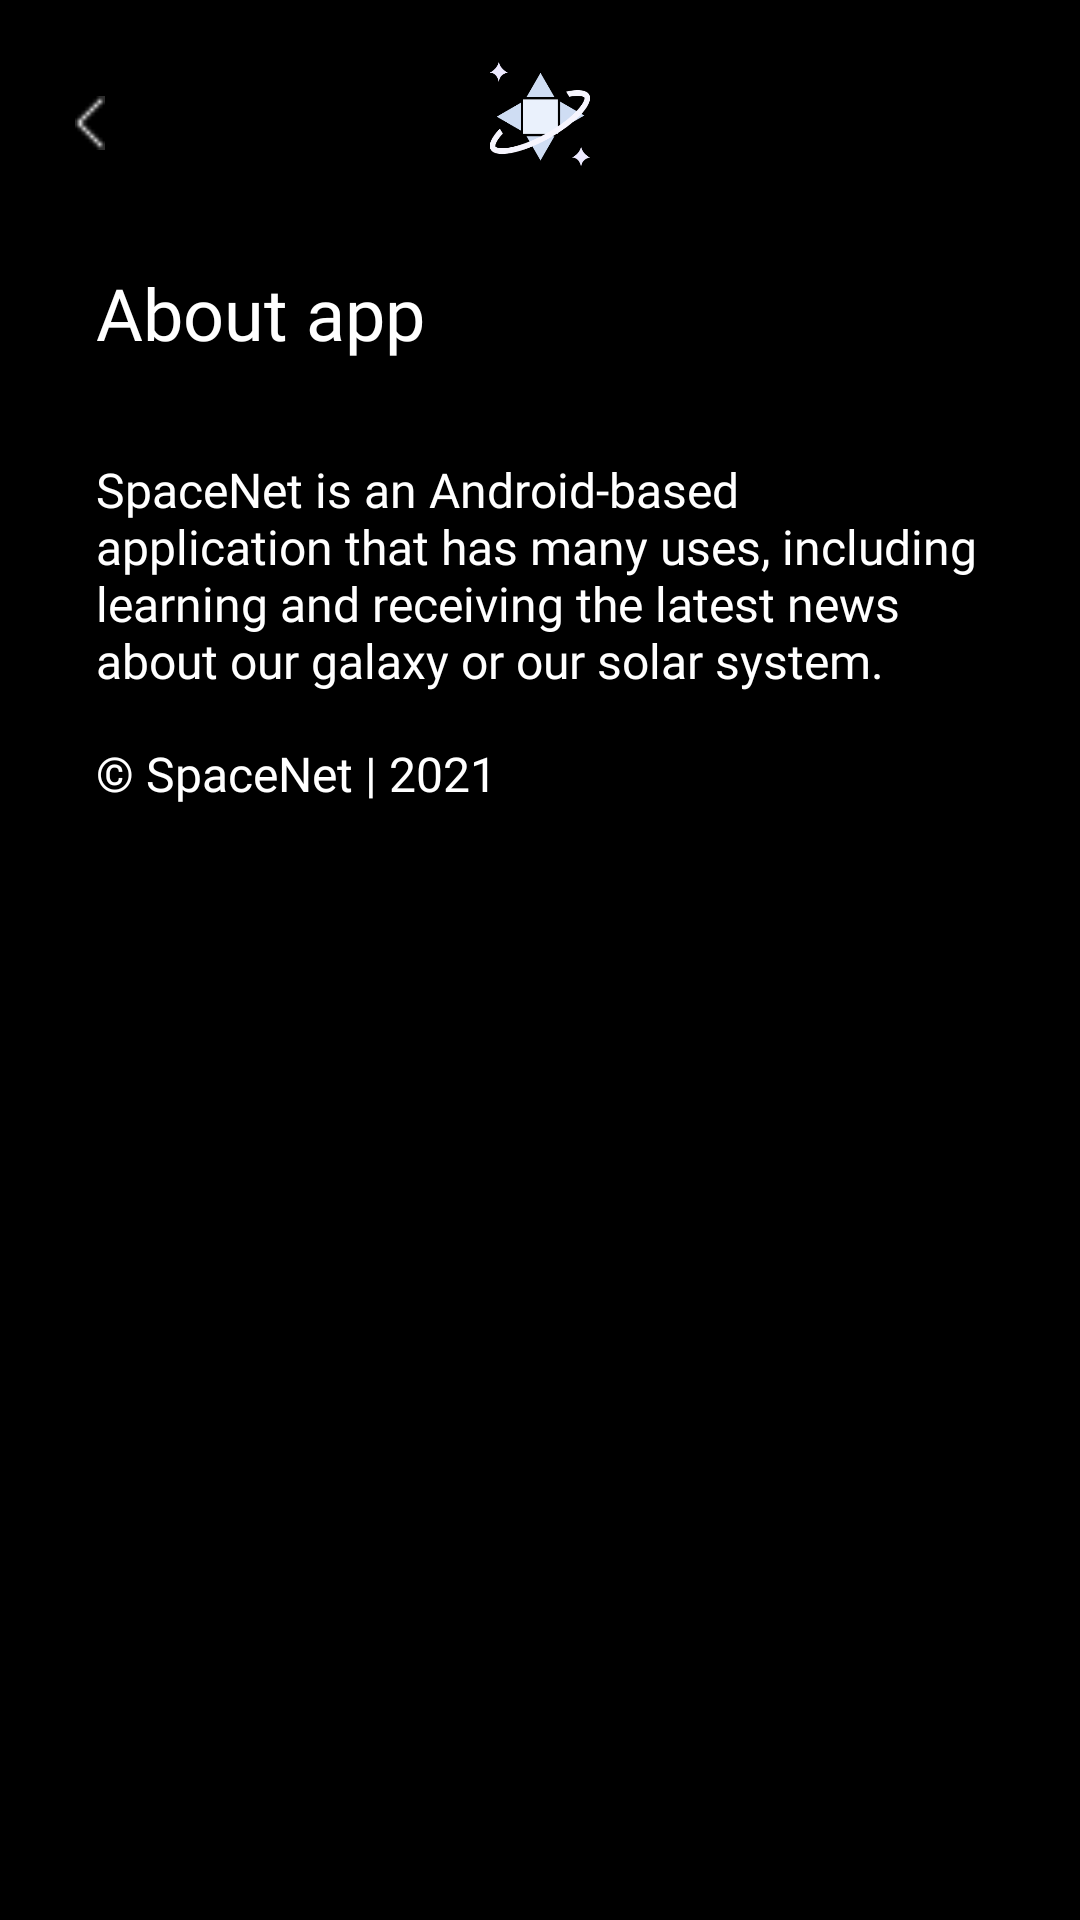

Named icons in this screenshot (1080x1920) and their bounding boxes, (x1, y1, x2, y2):
back: (75, 96, 105, 150)
